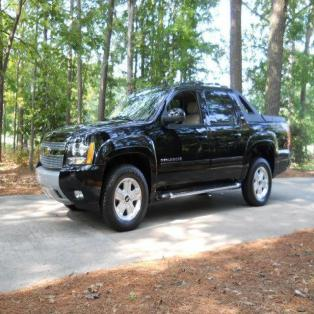Auto: (35, 81, 291, 235)
